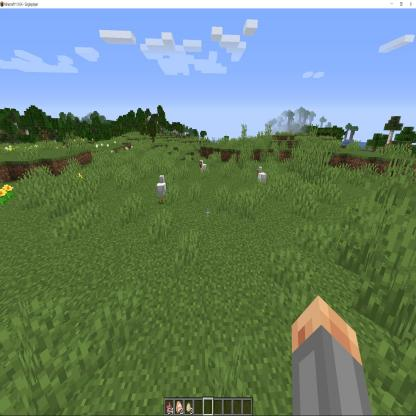minecraft-pigs: (155, 174, 168, 203), (256, 166, 267, 191), (198, 158, 208, 180)
